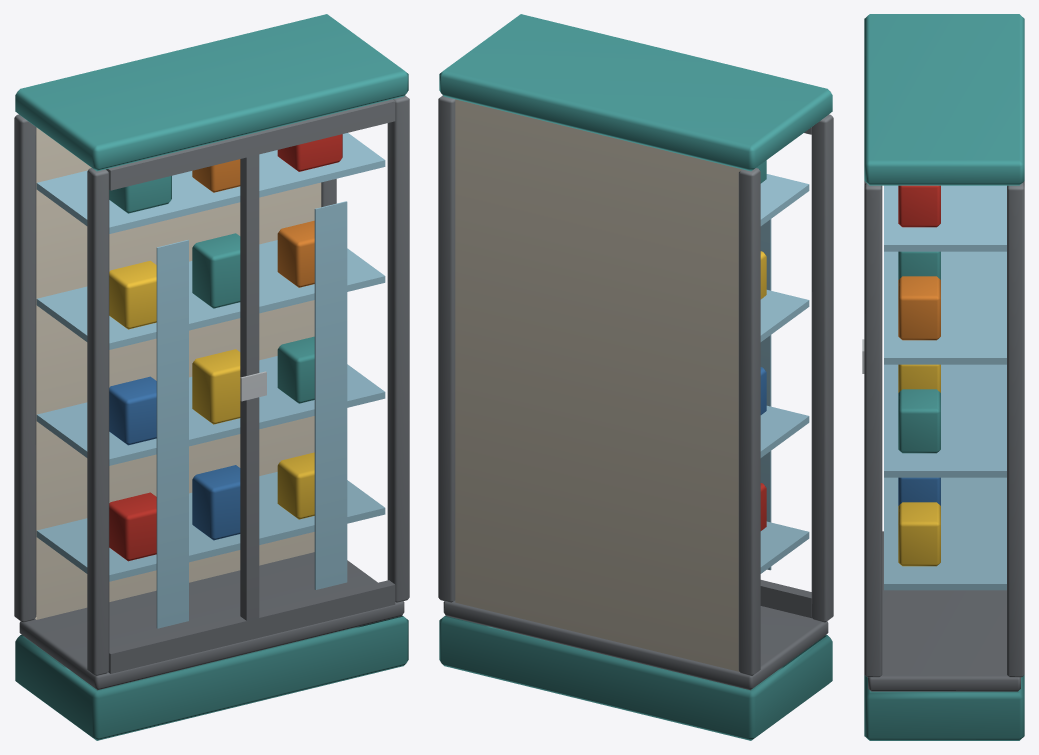
Rendered from GlassCase_Locked_10.glb.
3 views of the same model, side by side, from view 1: azimuth 30°, elevation 25°; view 2: azimuth 150°, elevation 25°; view 3: azimuth 270°, elevation 25° (orthographic). The views are drawn at different scales.
Visible parts, largest first — view 1: SM_GlassCase_Locked_10; view 2: SM_GlassCase_Locked_10; view 3: SM_GlassCase_Locked_10.
Boxes of the visible parts, left/top/right/bottom form: SM_GlassCase_Locked_10: left=14, top=14, right=409, bottom=740; SM_GlassCase_Locked_10: left=438, top=14, right=833, bottom=740; SM_GlassCase_Locked_10: left=862, top=14, right=1024, bottom=740.
Size of the model in its own units: 1 by 1.8 by 0.456.
Materials: 1 (1 with a texture image).
